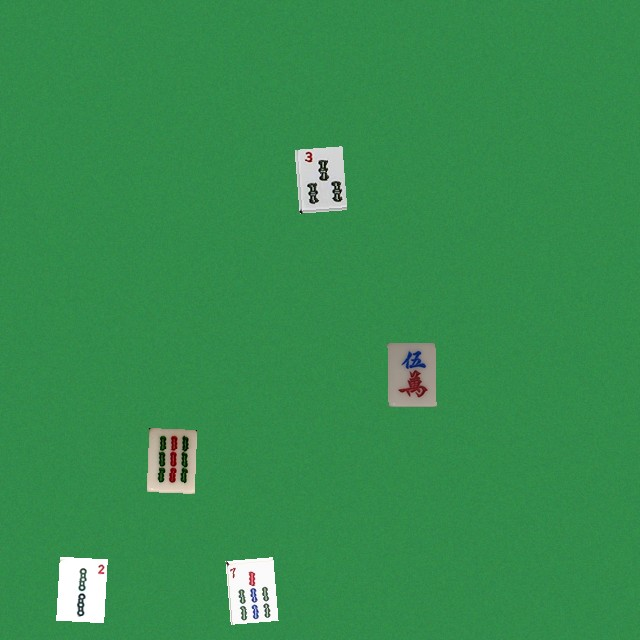tile: (56, 556, 104, 620), (294, 146, 342, 210), (225, 557, 273, 621), (387, 342, 435, 406), (146, 428, 194, 492)
